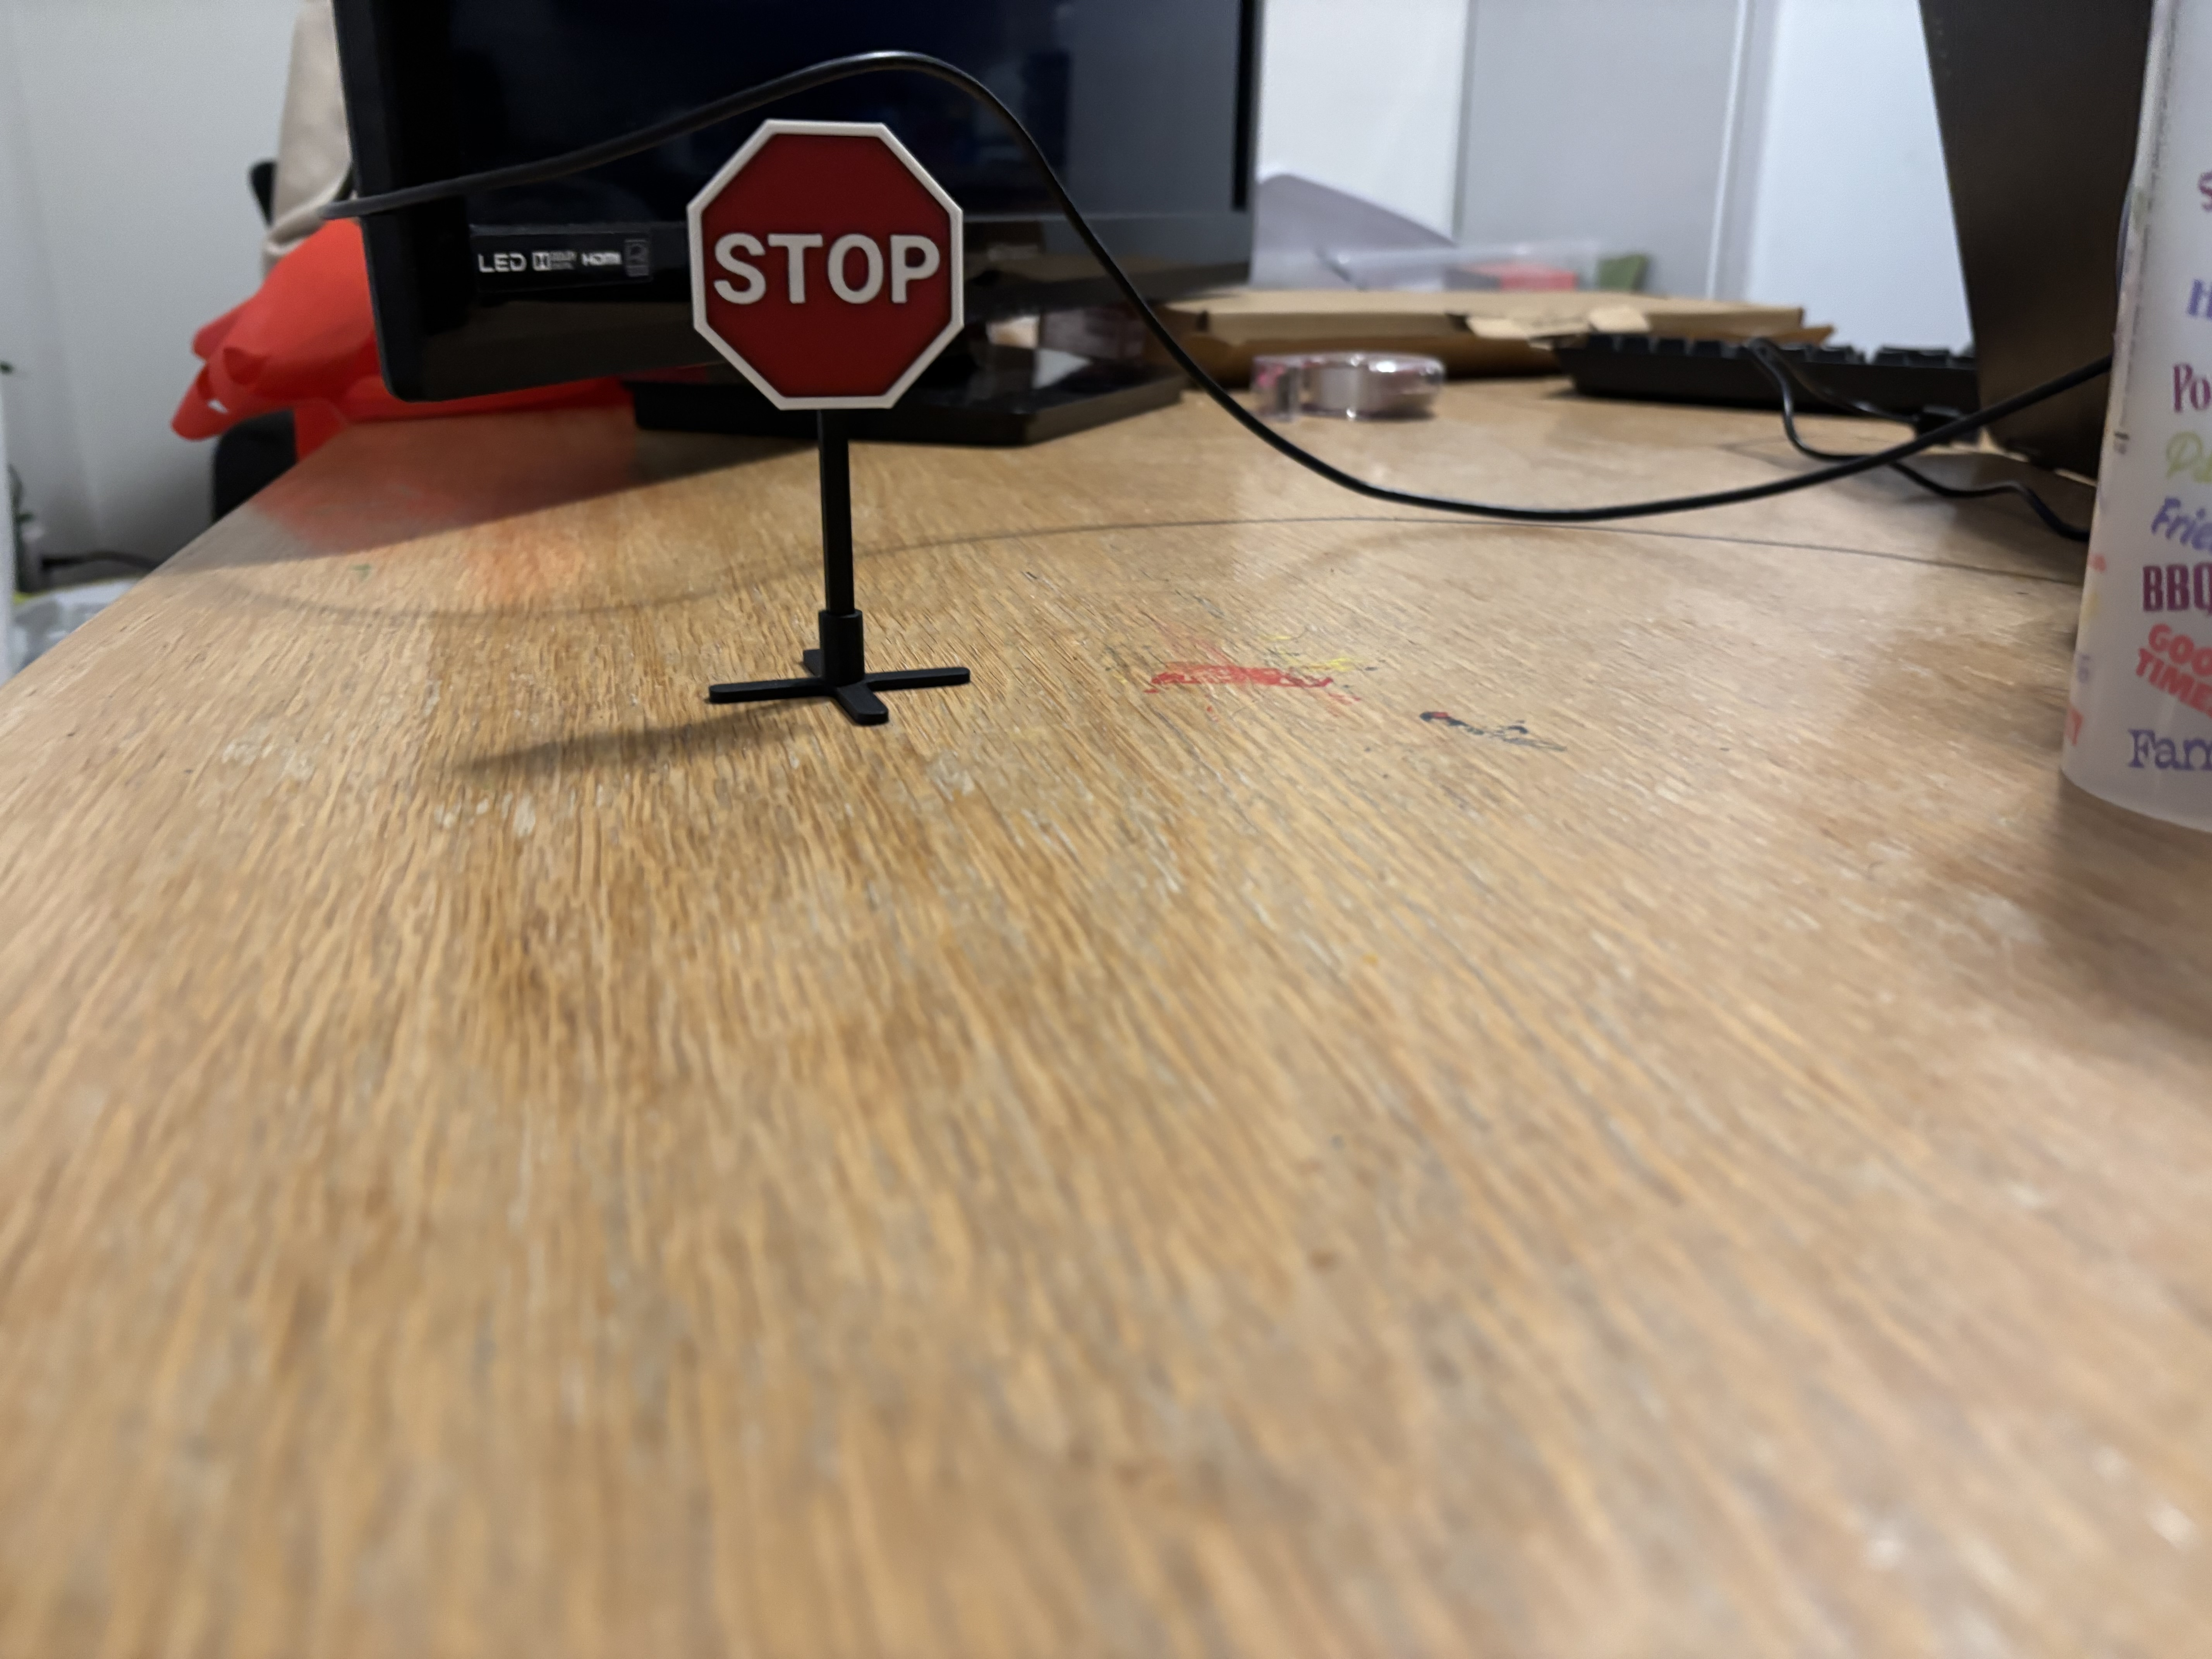sign_stop: (669, 112, 979, 427)
